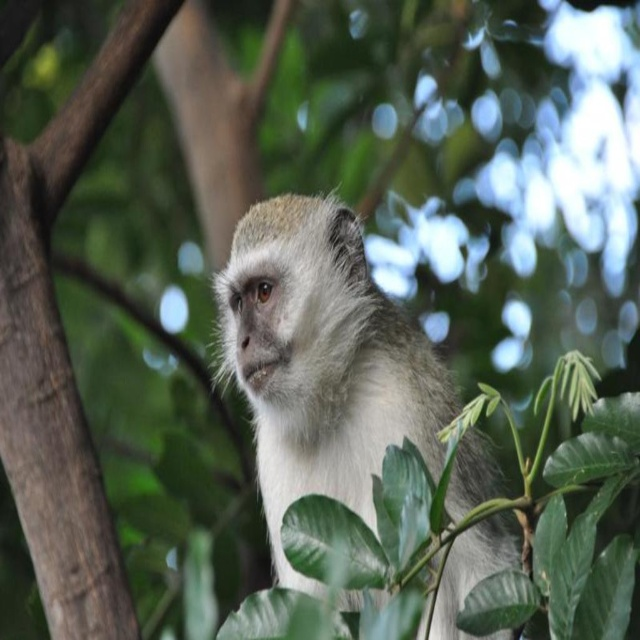Monkey: (204, 179, 536, 640)
